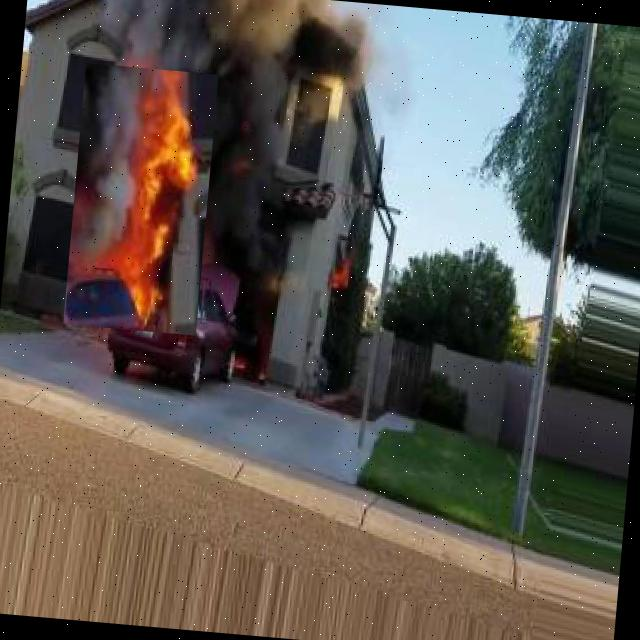fire: (63, 62, 218, 336)
